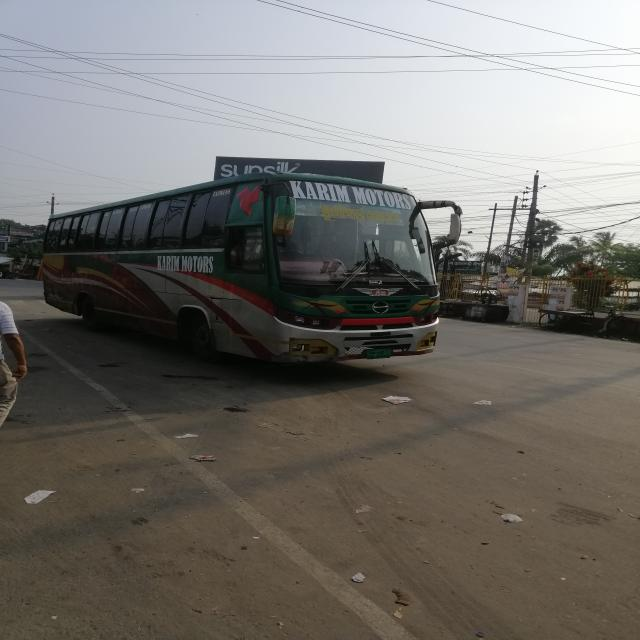Bus: (36, 157, 458, 376)
